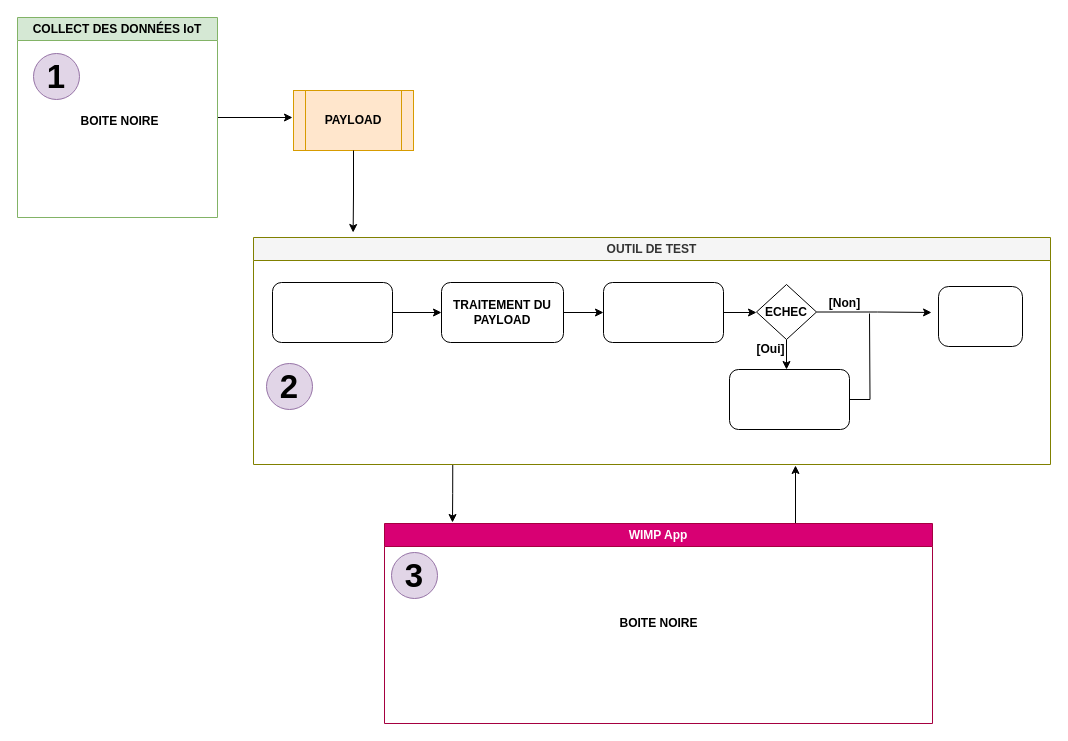
The diagram is 1068 pixels wide and 741 high, and some of its shapes have lost their labels. The box of each missing label's shape, as (x1, y1, x2, y2) in pixels:
ANALYSE ECHEC: (728, 368, 850, 430)
AUTHENTIFICATION: (272, 282, 392, 342)
EXECUTION DES TESTS: (602, 282, 724, 342)
RAPPORT DE TEST: (938, 286, 1022, 346)
